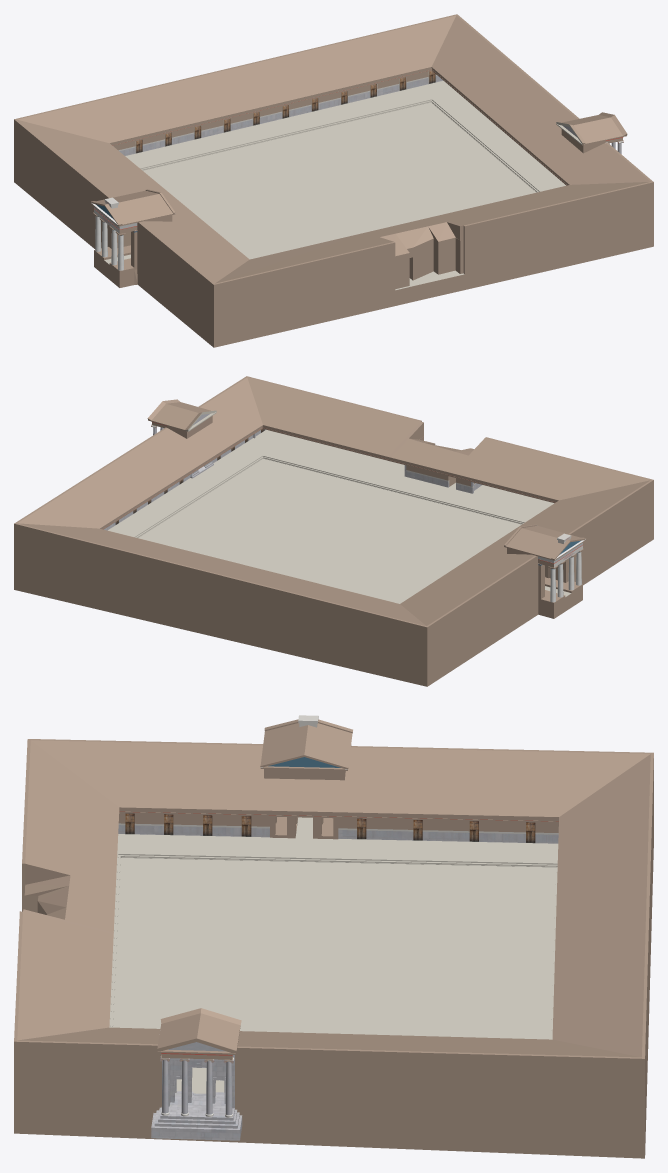
The model's file is romanagoraNoColumns.fbx.
3 views of the same model, one above another, from view 1: azimuth 30°, elevation 25°; view 2: azimuth 150°, elevation 25°; view 3: azimuth 270°, elevation 25° (orthographic). The views are drawn at different scales.
Visible parts, largest first — view 1: Group1; view 2: Group1; view 3: Group1.
Part boxes in pixels (<box>): Group1: <box>14,14,653,347</box>; Group1: <box>14,376,653,686</box>; Group1: <box>14,715,653,1158</box>.
Bounding box in the file's own units: 123275 × 20799 × 100319.
